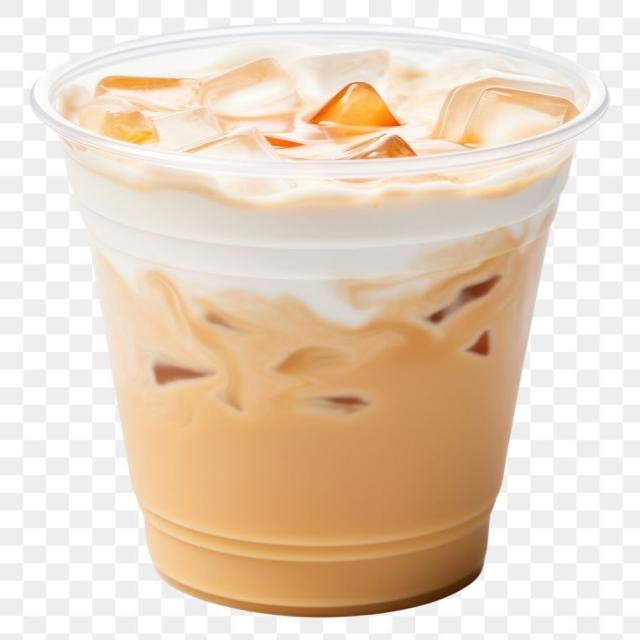plastic cup: (30, 23, 616, 616)
